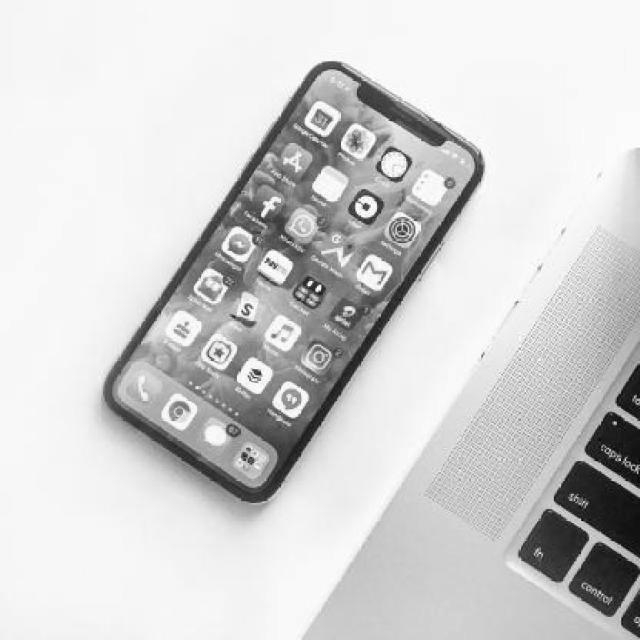fake: (102, 54, 484, 508)
